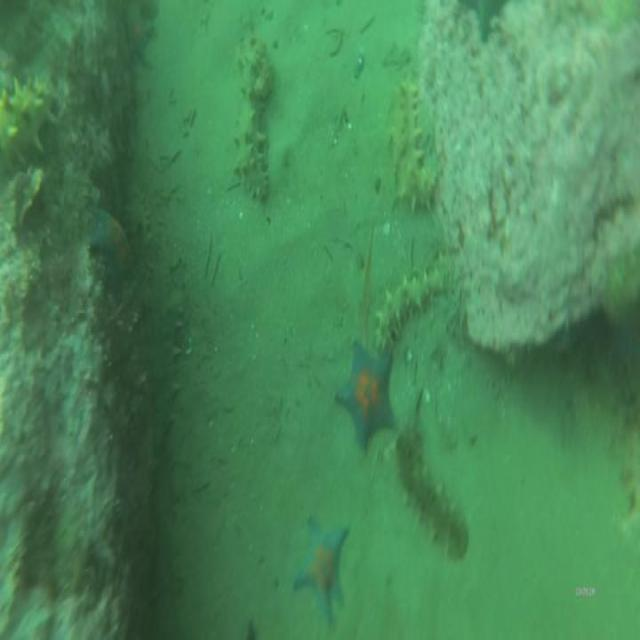holothurian: (399, 425, 470, 564), (233, 44, 273, 210), (0, 60, 55, 168), (398, 74, 439, 218), (375, 259, 448, 337)
starfish: (335, 335, 397, 452), (294, 512, 351, 632), (91, 204, 135, 289)
